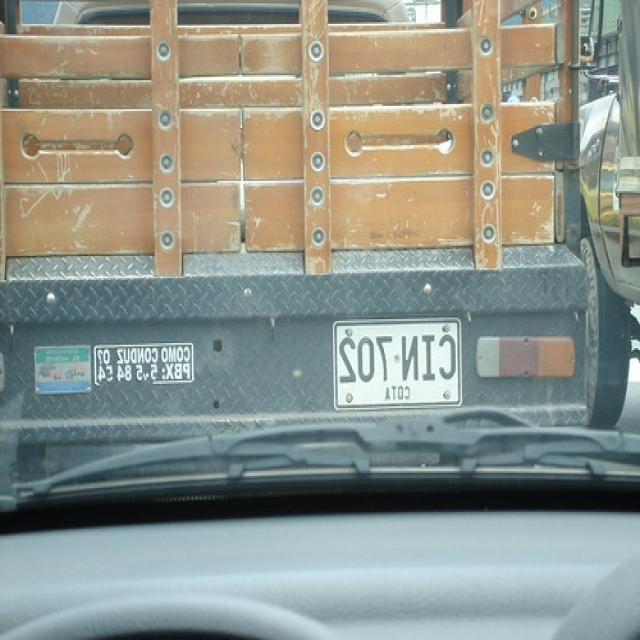placas: (332, 325, 459, 384)
